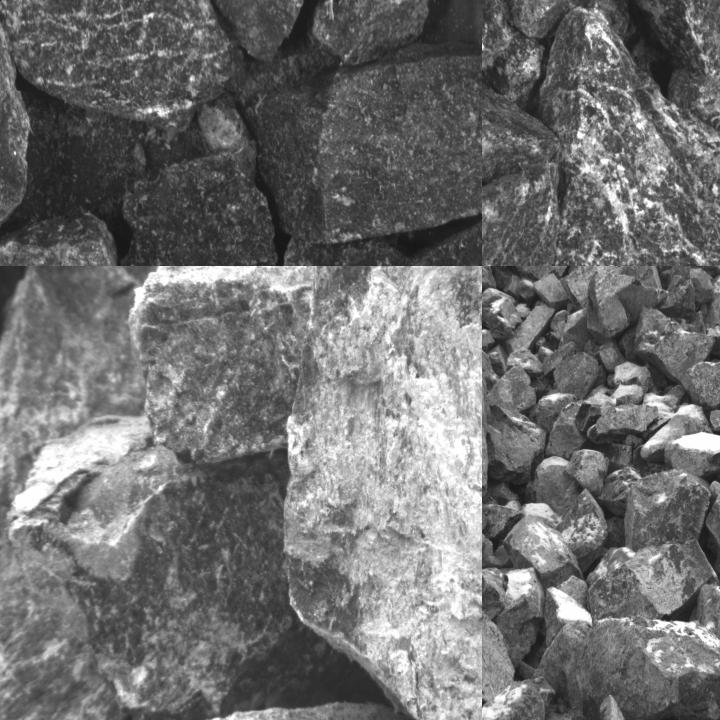stone: (8, 418, 344, 719), (283, 266, 481, 719), (248, 42, 481, 244), (538, 7, 719, 265), (128, 266, 315, 466), (1, 0, 242, 125), (533, 621, 719, 719), (119, 156, 278, 265), (587, 542, 715, 620), (280, 217, 481, 265), (482, 73, 561, 180), (482, 163, 559, 265), (0, 212, 148, 265), (620, 0, 719, 79), (624, 470, 712, 551), (585, 266, 667, 340), (634, 308, 714, 382), (505, 515, 583, 589), (198, 93, 259, 181), (487, 405, 545, 483), (546, 395, 614, 460), (559, 490, 608, 573), (642, 404, 709, 459), (482, 603, 514, 703), (499, 0, 581, 37), (541, 585, 590, 644), (482, 679, 554, 719), (534, 456, 581, 517), (590, 402, 661, 441), (489, 364, 542, 416), (504, 303, 555, 356), (664, 432, 719, 480), (482, 349, 498, 504), (554, 352, 606, 396), (482, 289, 524, 338), (684, 357, 719, 412), (482, 501, 524, 544), (568, 451, 609, 494), (661, 266, 696, 316), (482, 569, 509, 620), (582, 695, 638, 719), (507, 349, 544, 378), (482, 525, 500, 571), (517, 266, 573, 278), (482, 266, 495, 297)
